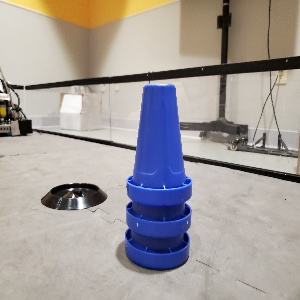Blue_3: (123, 83, 191, 269)
